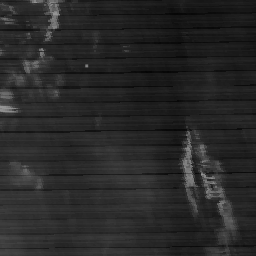Target: (83, 63, 89, 69)
